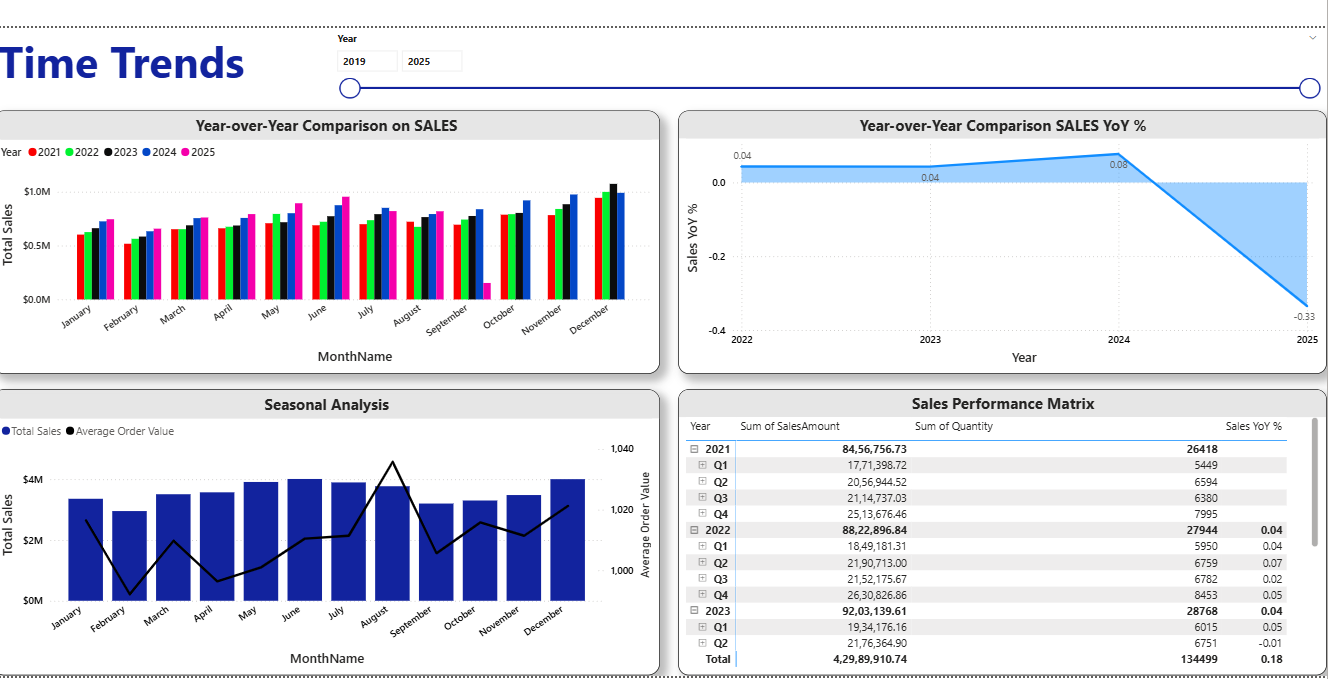

This screenshot's page, from the dashboard's own definition file:
{"tool":"powerbi","page":{"name":"Time Intelligence & Trends","canvas":[1650,800],"ordinal":1},"visuals":[{"type":"textbox","box":[0,0,652.8,81.8],"z":0},{"type":"slicer","fields":{"Values":["Calendar.Year"]},"box":[414,0,1236,100.4],"z":1000},{"type":"clusteredColumnChart","title":"Year-over-Year Comparison on SALES","fields":{"Category":["DimDate.MonthName"],"Y":["FactSales.Total Sales"],"Series":["DimDate.Year"]},"box":[0,102.3,825.8,325.5],"z":2000},{"type":"lineClusteredColumnComboChart","title":"Seasonal Analysis","fields":{"Category":["DimDate.MonthName"],"Y":["FactSales.Total Sales"],"Y2":["FactSales.Average Order Value"]},"box":[0,446.4,825.8,353.4],"z":3000},{"type":"areaChart","title":"Year-over-Year Comparison SALES YoY %","fields":{"Y":["FactSales.Sales YoY %"],"Category":["Calendar.Year"]},"box":[848.1,102.3,801.6,325.5],"z":4000},{"type":"pivotTable","title":"Sales Performance Matrix","fields":{"Values":["Sum(FactSales.SalesAmount)","Sum(FactSales.Quantity)","FactSales.Sales YoY %"],"Rows":["Calendar.Year","Calendar.Quarter","Calendar.Month Name"]},"box":[848.1,446.4,801.6,353.4],"z":5000}]}

Visuals, with their boxes on the page's 1650x800 design canvas (x1, y1, x2, y2). These are canvas units, not pixel positions in the 1335x679 screenshot, which may show the page scaled, cropped or inside an application window:
textbox: 0, 0, 653, 82
slicer - Calendar.Year: 414, 0, 1650, 100
"Year-over-Year Comparison on SALES" clusteredColumnChart: 0, 102, 826, 428
"Seasonal Analysis" lineClusteredColumnComboChart: 0, 446, 826, 800
"Year-over-Year Comparison SALES YoY %" areaChart: 848, 102, 1650, 428
"Sales Performance Matrix" pivotTable: 848, 446, 1650, 800
